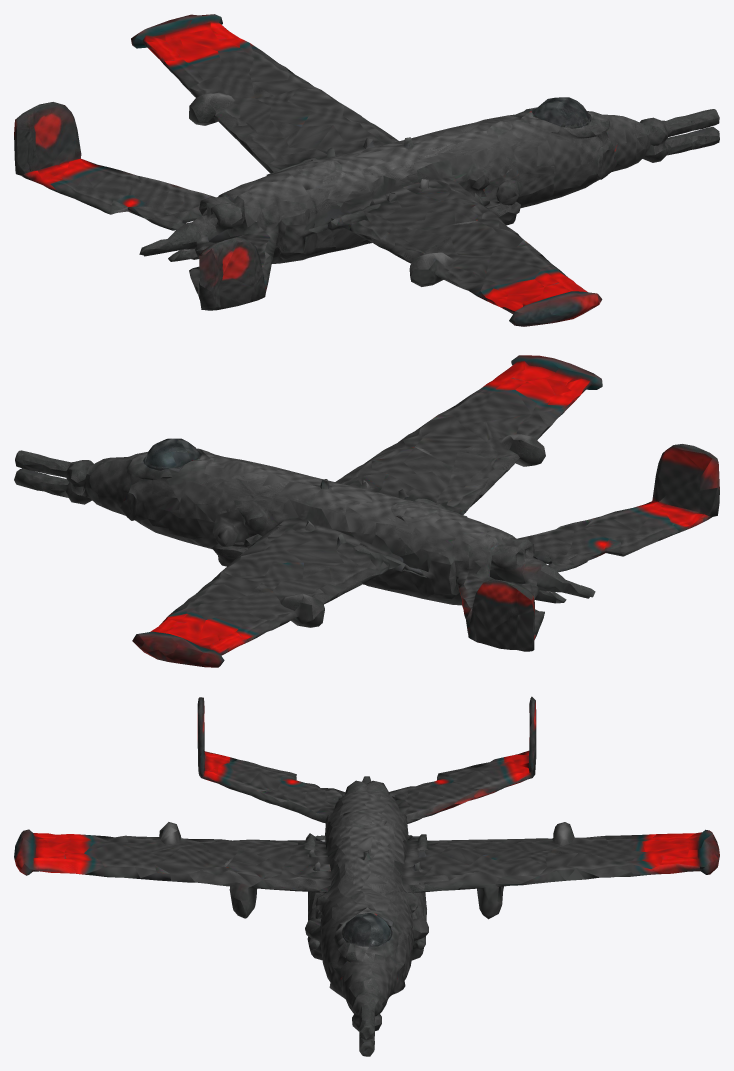
The model's file is fh_enemy_drone_meshy.glb.
3 renders of one model, top to bottom at view 1: azimuth 30°, elevation 25°; view 2: azimuth 150°, elevation 25°; view 3: azimuth 270°, elevation 25°, orthographic. The views are drawn at different scales.
Parts seen in each view (by area): view 1: GLTF; view 2: GLTF; view 3: GLTF.
Boxes of the visible parts, bbox=[...] form: GLTF: bbox=[14, 14, 719, 326]; GLTF: bbox=[14, 355, 719, 667]; GLTF: bbox=[14, 696, 719, 1056].
Bounding box in the file's own units: 1 × 0.201 × 1.12.
Materials: 1 (1 with a texture image).
